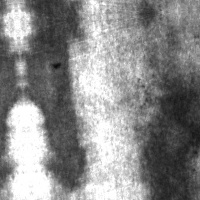patches: (20, 20, 91, 194), (138, 69, 199, 190)
